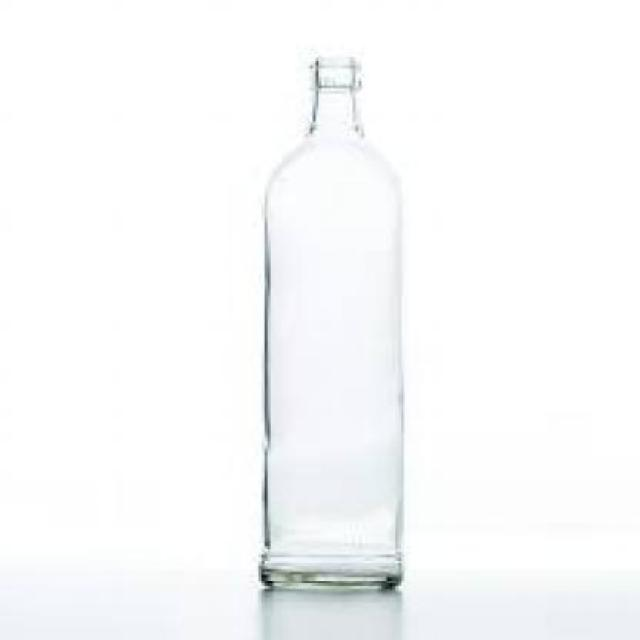kaca: (256, 57, 402, 586)
